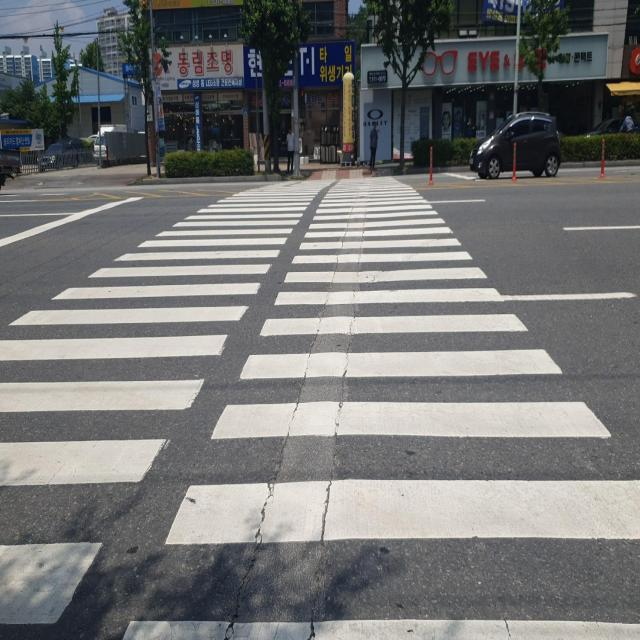빨간불: (298, 85, 308, 120)
횡단보도: (0, 182, 640, 639)
